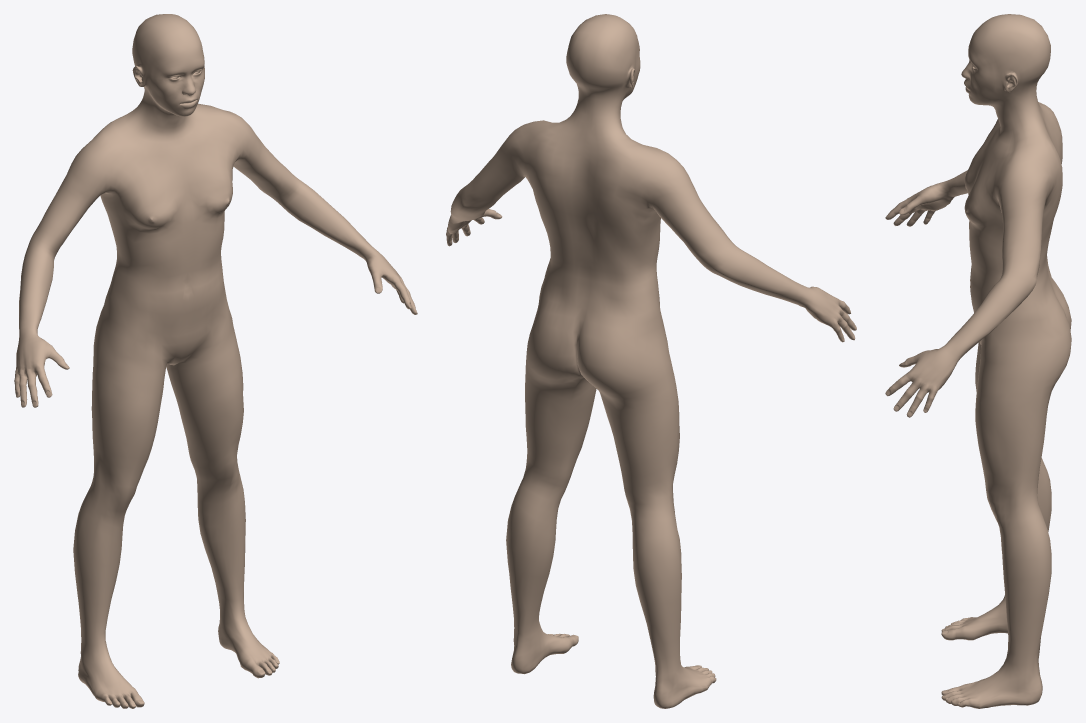
Rendered from ScaleReference.fbx.
3 renders of one model, left to right at view 1: azimuth 30°, elevation 25°; view 2: azimuth 150°, elevation 25°; view 3: azimuth 270°, elevation 25°, orthographic.
Visible parts, largest first — view 1: scalereferenceMesh; view 2: scalereferenceMesh; view 3: scalereferenceMesh.
Boxes of the visible parts, <box> form: scalereferenceMesh: <box>14,14,417,708</box>; scalereferenceMesh: <box>446,14,856,708</box>; scalereferenceMesh: <box>885,14,1071,708</box>.
Size of the model in its own units: 116 by 184 by 47.52.
